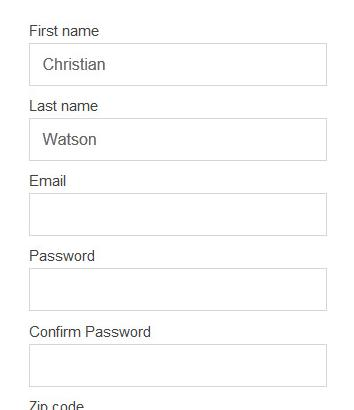field: (26, 190, 329, 238), (27, 40, 329, 87), (26, 265, 328, 312), (26, 116, 328, 162), (29, 342, 328, 388)
field_with_label: (23, 171, 331, 240), (24, 248, 331, 315), (24, 22, 330, 89), (27, 324, 331, 391), (23, 99, 330, 165)
